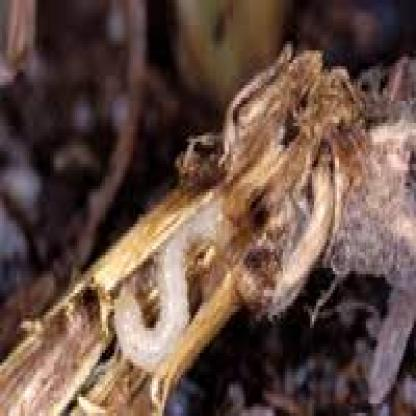sawfly: (109, 203, 238, 386)
